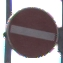No entry: (5, 5, 57, 58)
